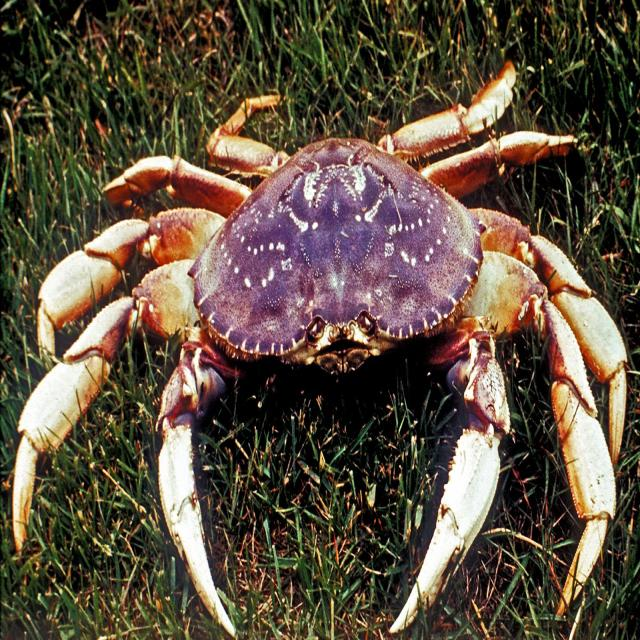crab: (116, 128, 527, 474)
